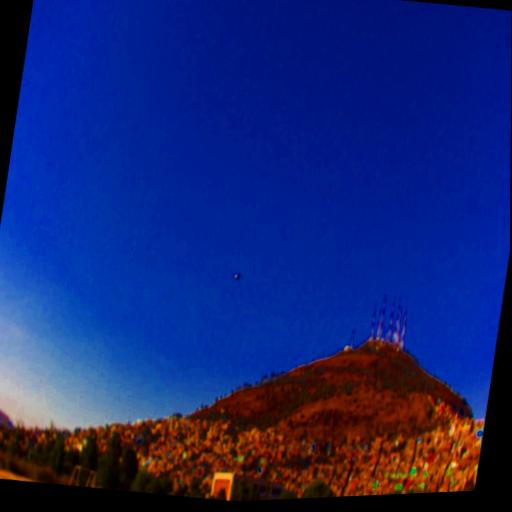drones: (231, 271, 245, 283)
